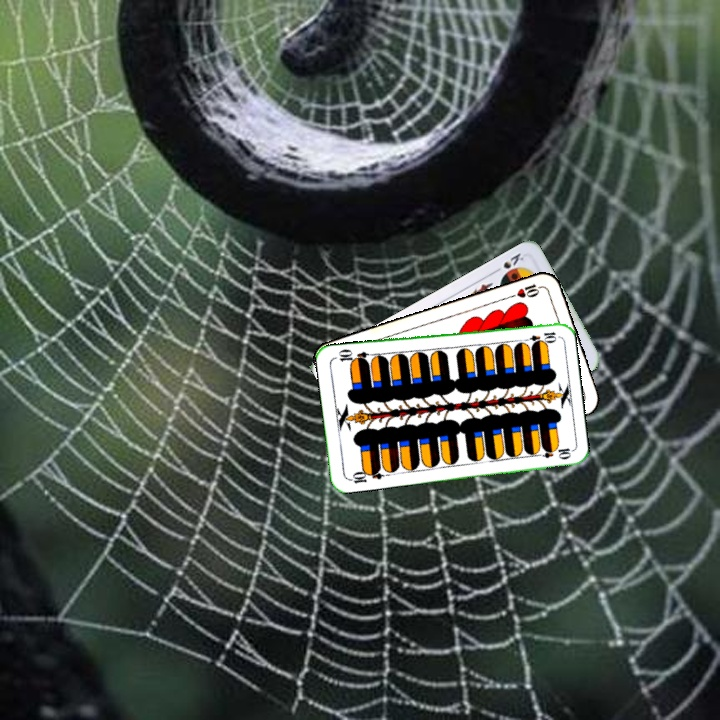E10: (345, 464, 385, 486), (518, 328, 559, 345)
H10: (506, 280, 545, 300)
SK: (489, 249, 526, 276)
